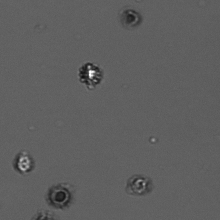Dead Cell: (47, 183, 72, 209), (126, 174, 151, 197), (120, 9, 143, 29)
Living Cell: (79, 62, 102, 88), (13, 151, 36, 174)
